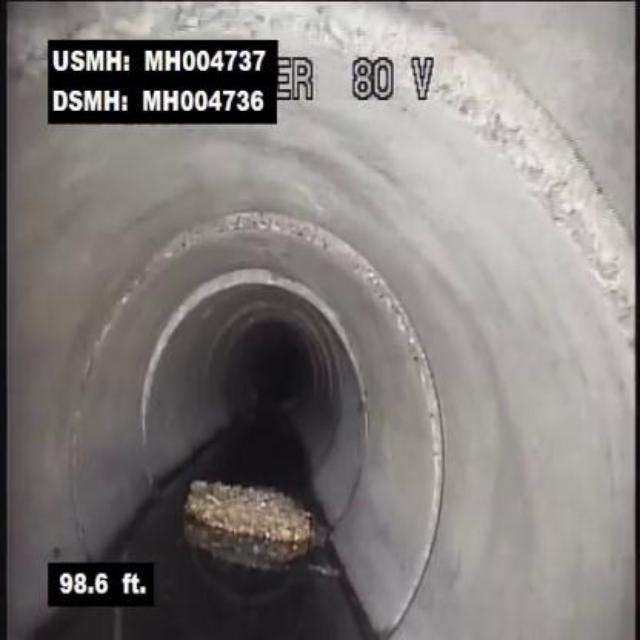Obstacle: (180, 449, 328, 575)
